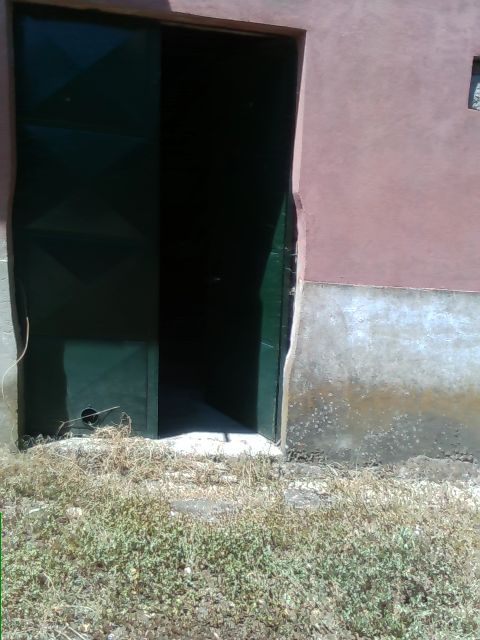semi: (1, 2, 307, 450)
